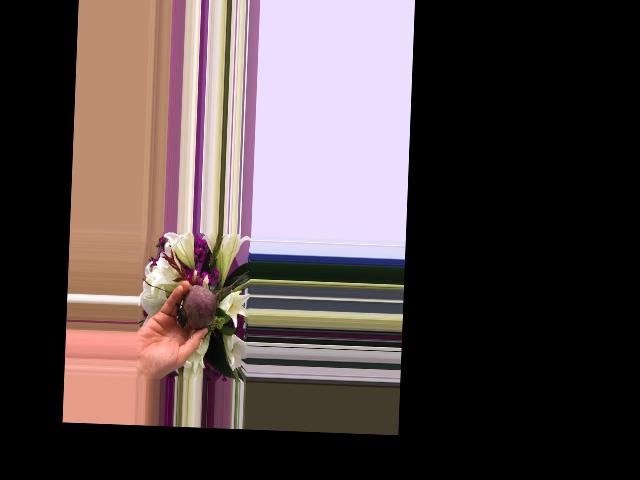beet: (176, 267, 248, 331)
